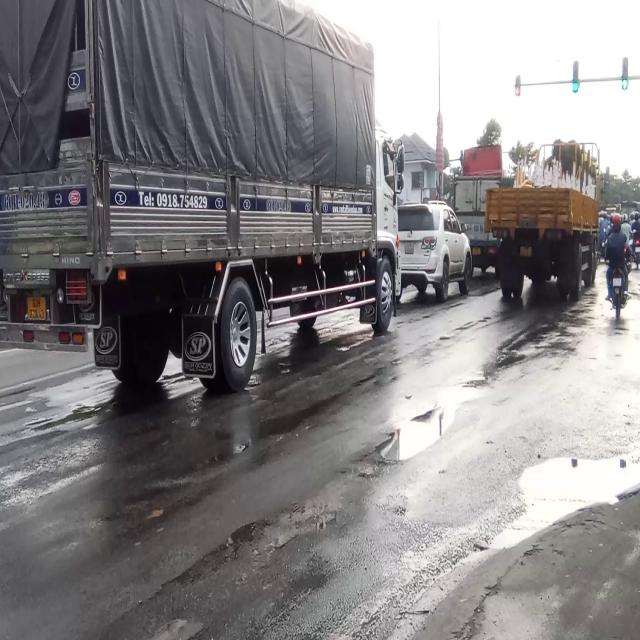bien_vang: (21, 291, 49, 322)
